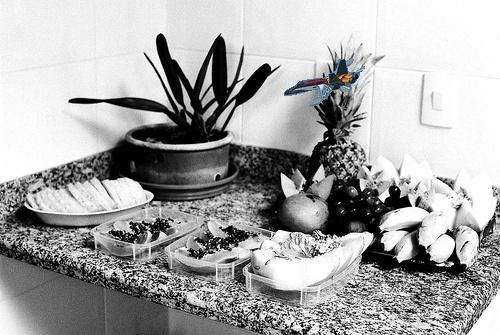tampered: (285, 59, 365, 106)
